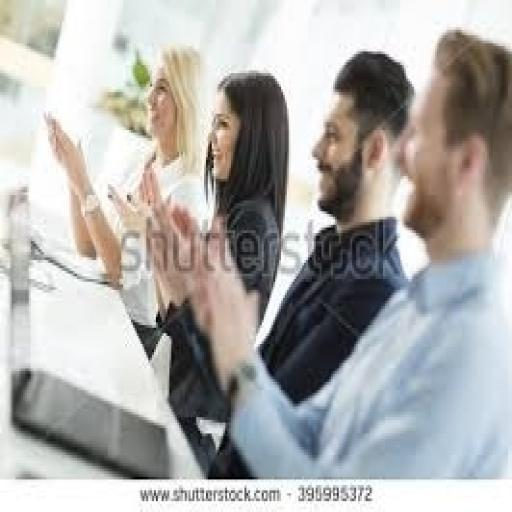clapping: (143, 27, 510, 480), (138, 68, 290, 477), (40, 41, 210, 355)
